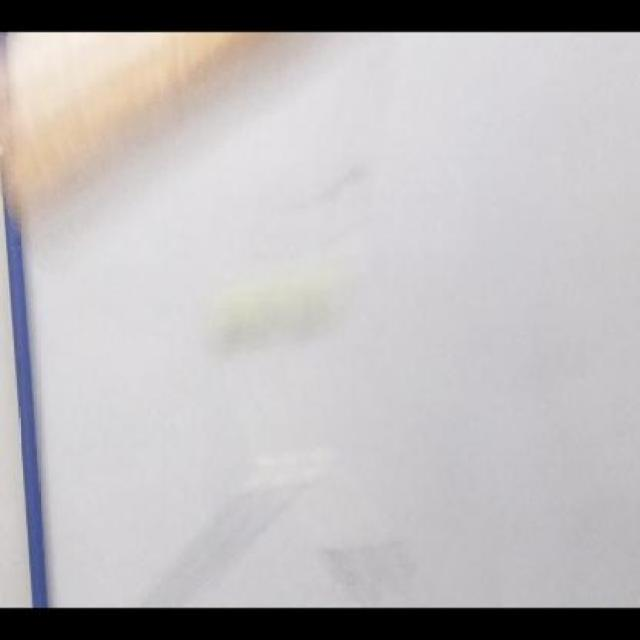baseball: (204, 263, 350, 357)
